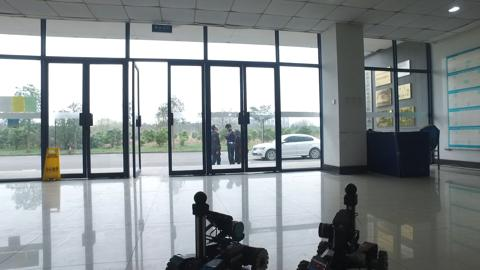chariot: (290, 182, 389, 269), (163, 191, 273, 268)
